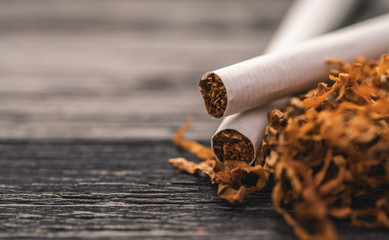cigarette: (210, 0, 361, 169), (197, 11, 389, 121)
